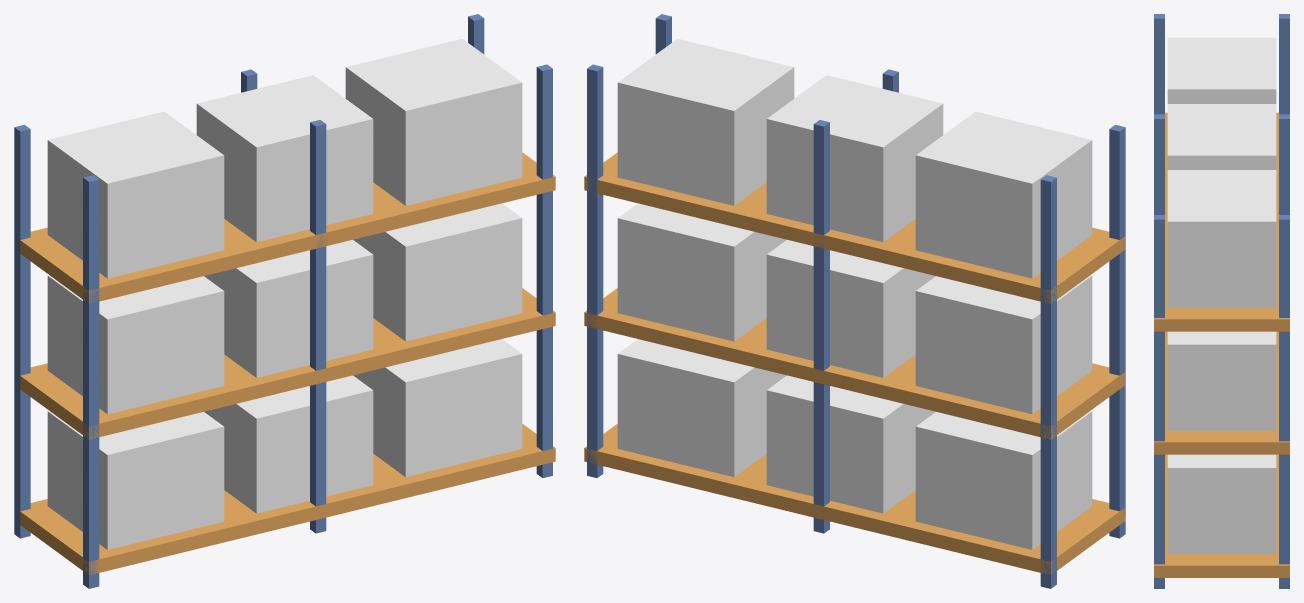
Rendered from pallet_rack.gltf.
The picture shows the model from 3 angles, left to right: view 1: azimuth 30°, elevation 25°; view 2: azimuth 150°, elevation 25°; view 3: azimuth 270°, elevation 25°; orthographic projection. The views are drawn at different scales.
Parts seen in each view (by area): view 1: pallet_rack; view 2: pallet_rack; view 3: pallet_rack.
Boxes of the visible parts, left/top/right/bottom form: pallet_rack: left=14, top=14, right=555, bottom=588; pallet_rack: left=584, top=14, right=1125, bottom=588; pallet_rack: left=1154, top=14, right=1289, bottom=588.
Bounding box in the file's own units: 3.6 × 3 × 1.
